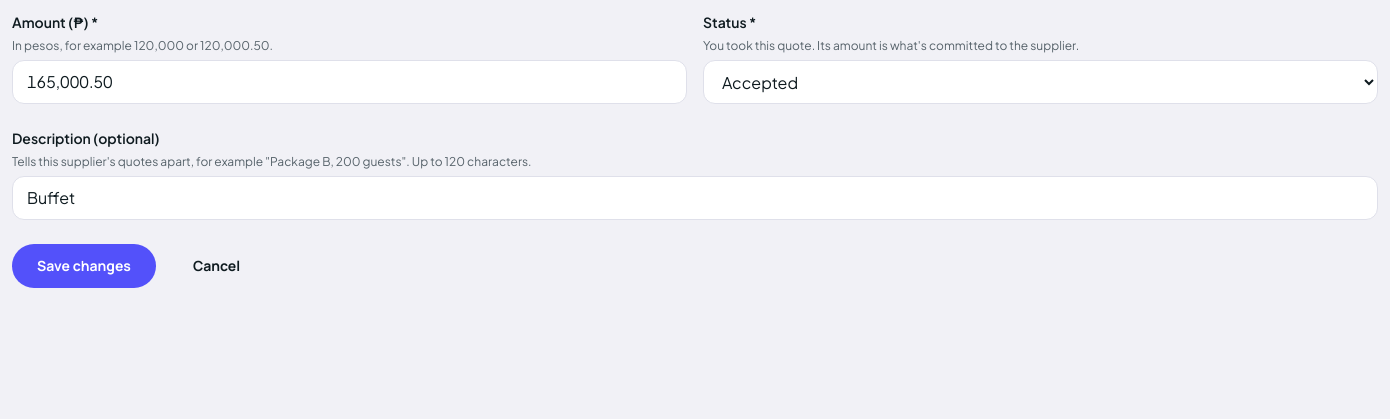
Test: QuoteForm › in edit mode › says when there was nothing to save, and shows a stale save as a banner
This screenshot has width=1390, height=419.
Click the button "Save changes".
click(84, 266)  # box [12,244,156,288]
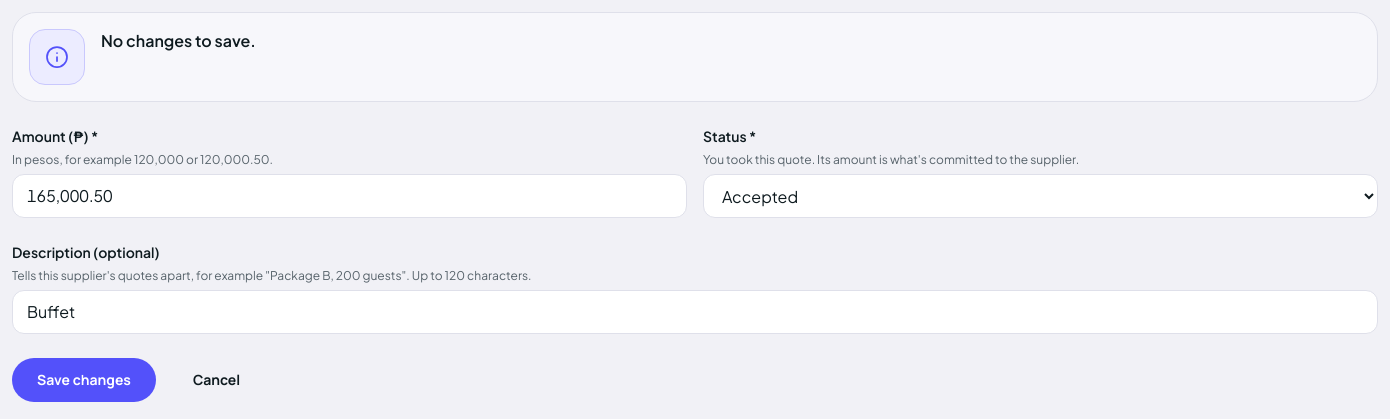
Check: the text "No changes to save." is shown, box [100,29,256,51]
Click the button "Save changes".
click(84, 380)  # box [12,358,156,402]
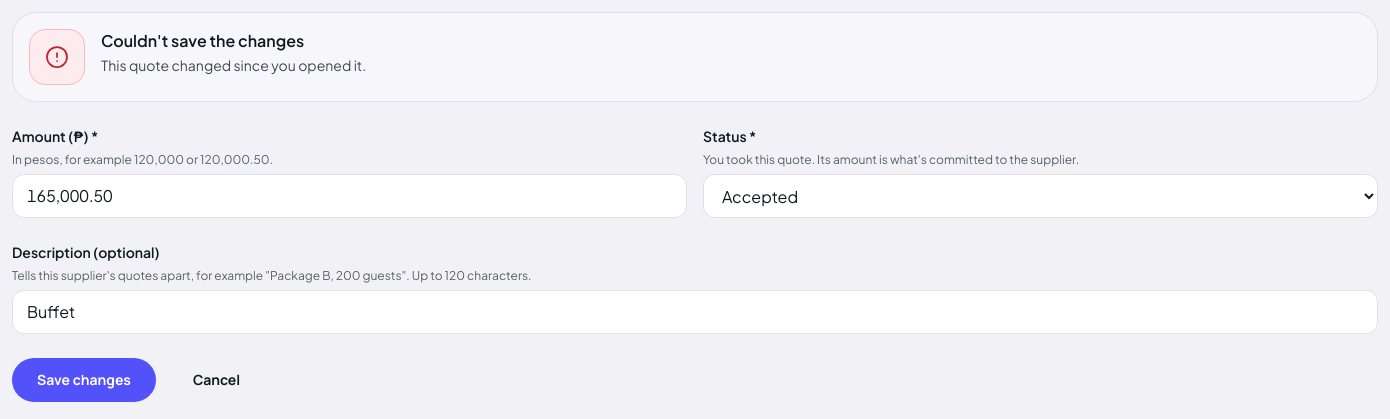
Check: the text "Couldn't save the changes" is shown, box [100,29,304,51]
